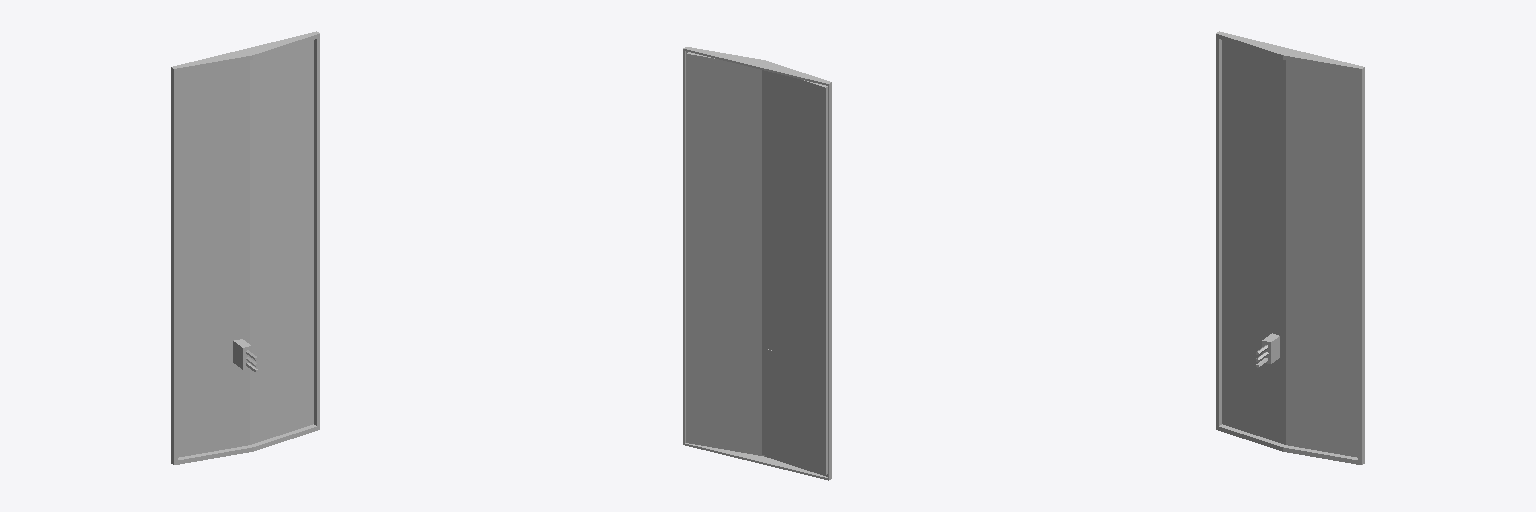
File: BuildingRoofA.obj
3 views of the same model, side by side, from view 1: azimuth 30°, elevation 25°; view 2: azimuth 150°, elevation 25°; view 3: azimuth 330°, elevation 25° (orthographic).
Visible parts, largest first — view 1: BuildingRoofA; view 2: BuildingRoofA; view 3: BuildingRoofA.
Boxes of the visible parts, x1=… form: BuildingRoofA: x1=171, y1=31, x2=319, y2=464; BuildingRoofA: x1=683, y1=47, x2=831, y2=480; BuildingRoofA: x1=1216, y1=31, x2=1364, y2=464.
Bounding box in the file's own units: 1400 × 3636 × 393.